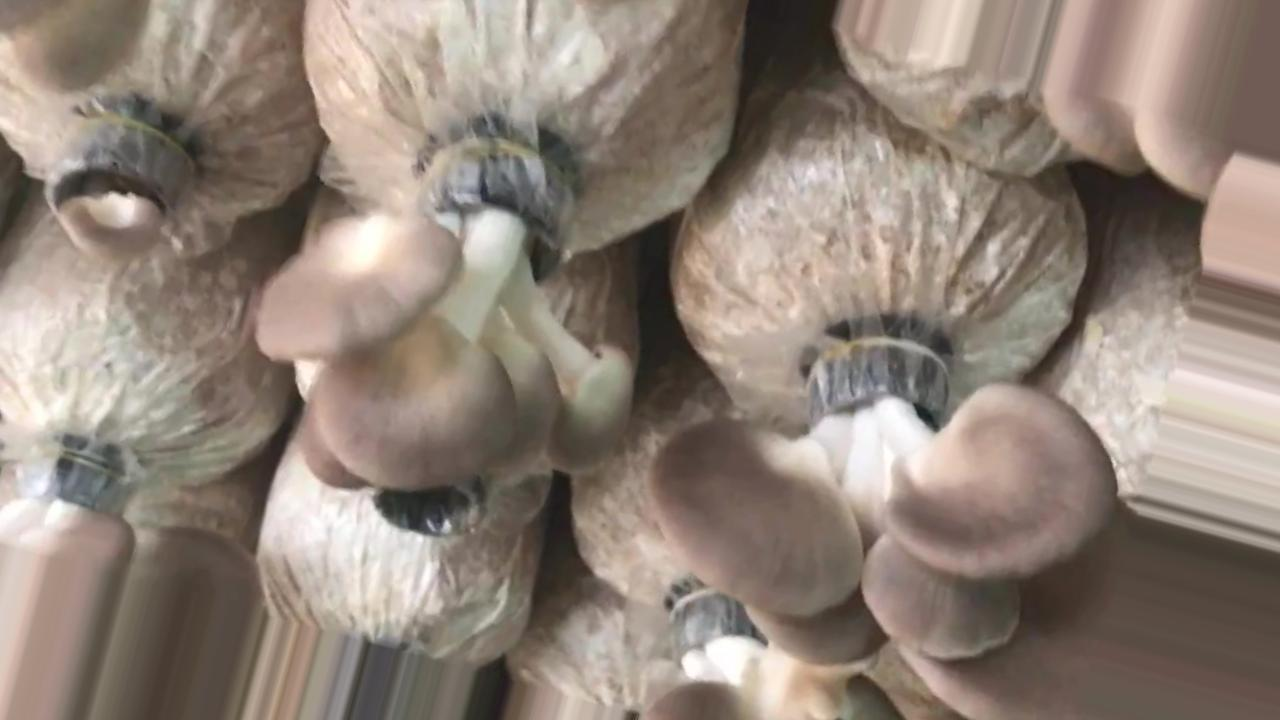nam: (652, 342, 1278, 719), (262, 142, 634, 491), (1, 469, 258, 718), (1043, 7, 1280, 199), (45, 125, 182, 257)
